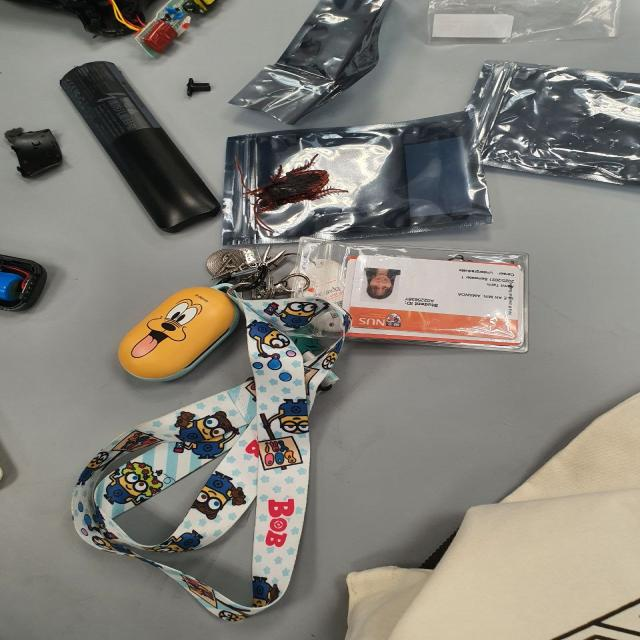Cockroach: (235, 156, 361, 217)
